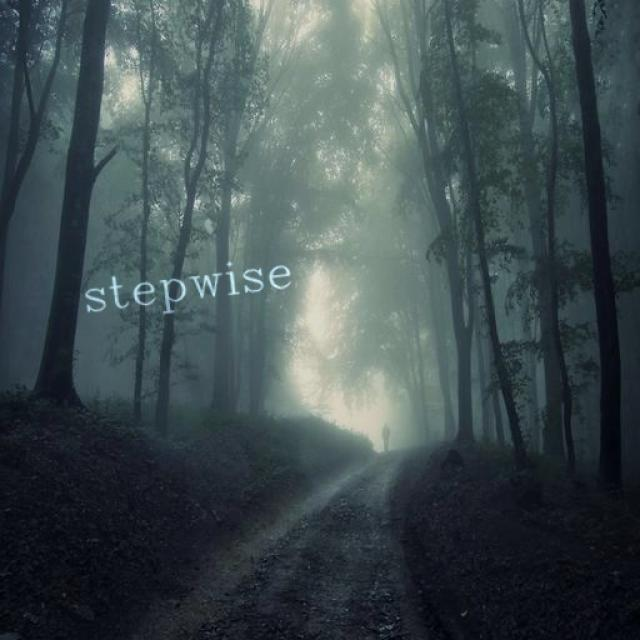watermark: (73, 251, 294, 320)
